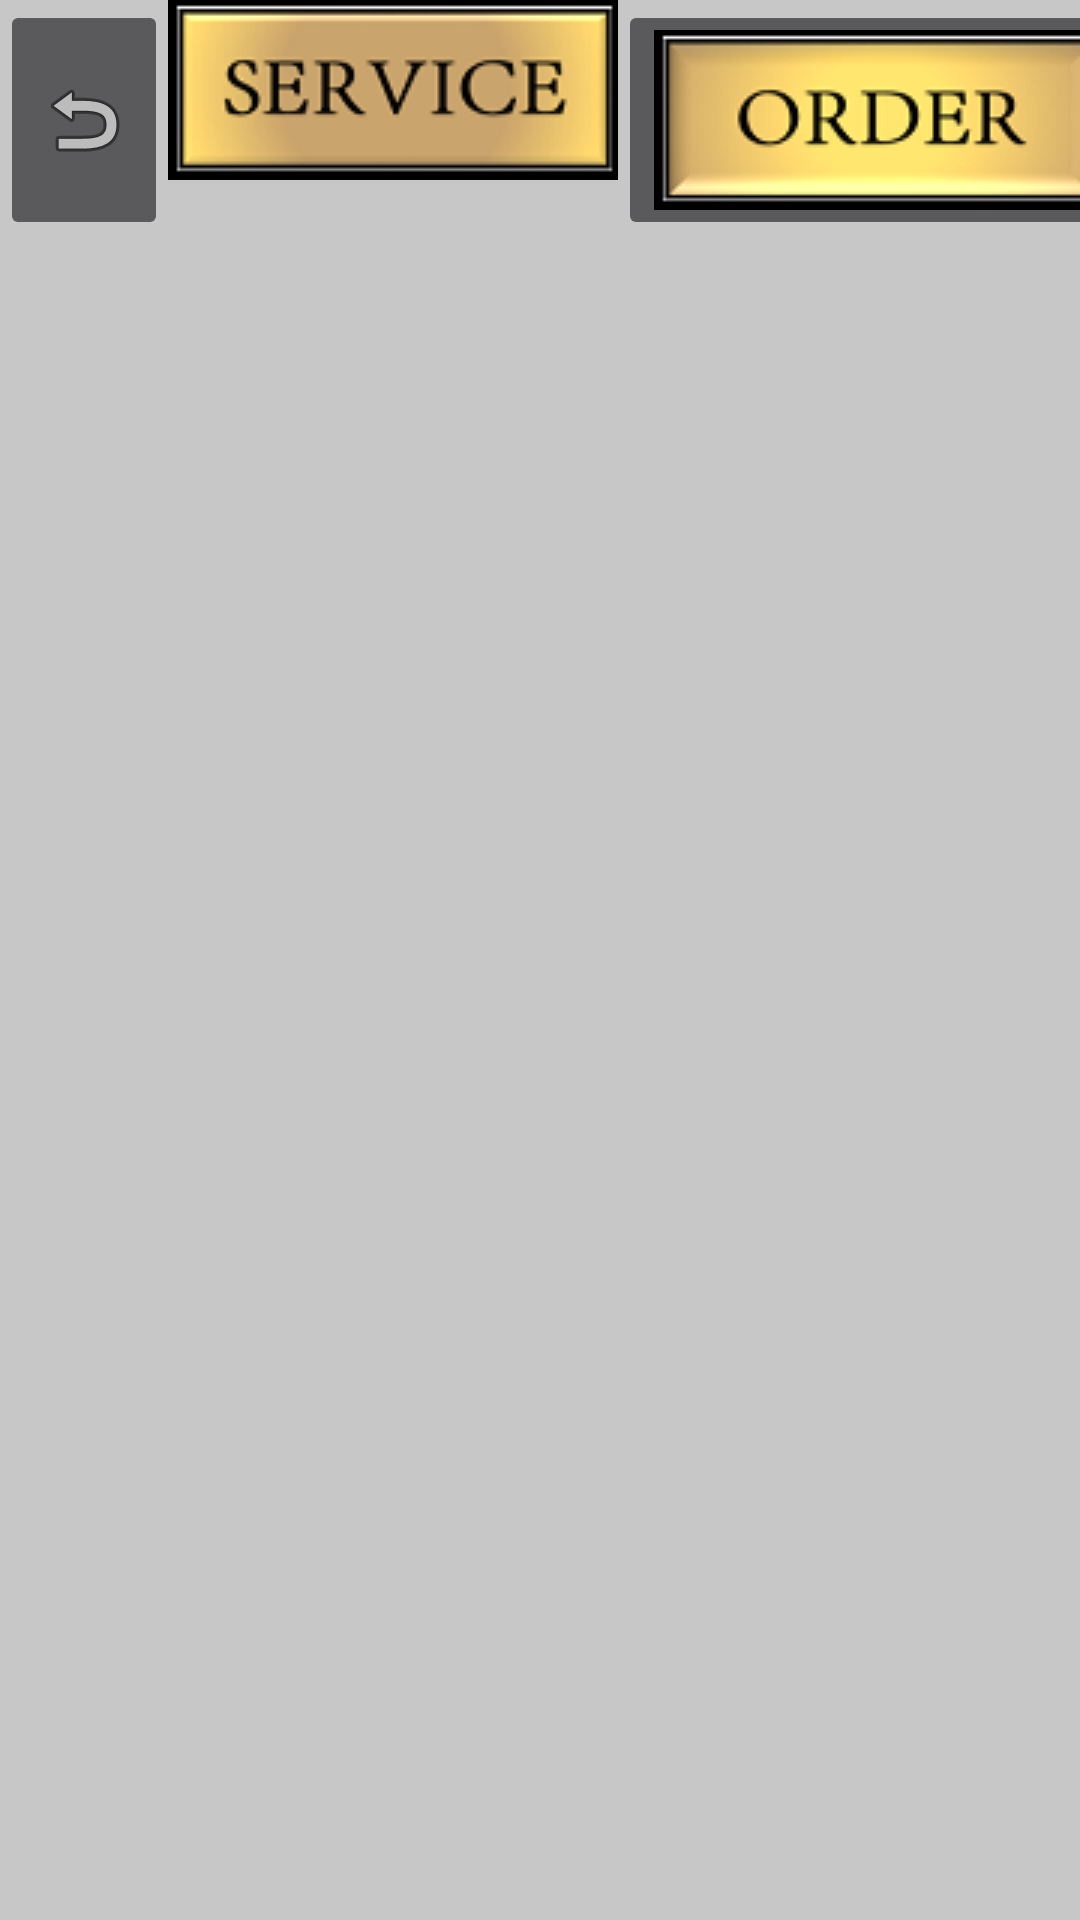

Named icons in this screenshot (1080*1920) and their bounding boxes, (x1, y1, x2, y2):
revert: (12, 18, 156, 222)
